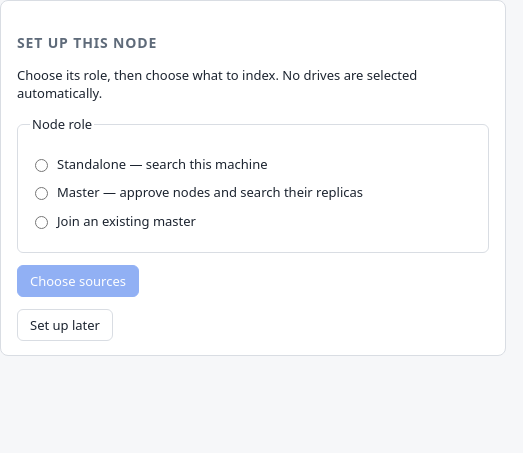
Test: role error is visible and does not silently advance
Click the radio button labelled "Master — approve nodes and search their replicas".
click(42, 194)  # box [35,187,48,200]
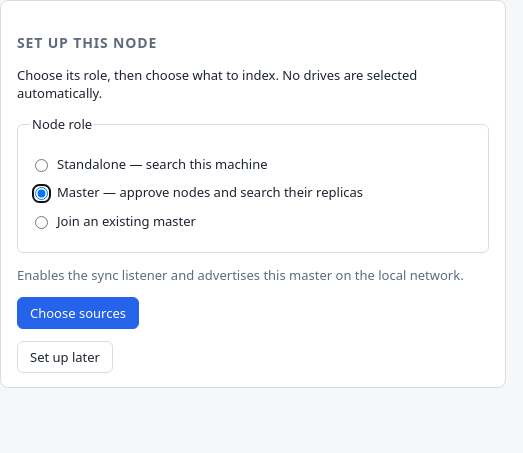
Click the button "Choose sources".
click(78, 313)  # box [17,297,139,329]
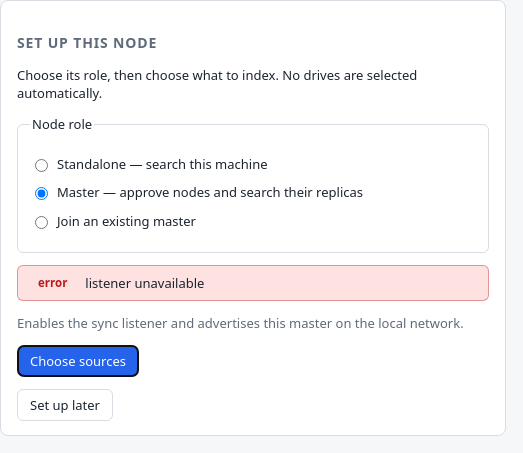
Now the text "listener unavailable" is shown, box [85,274,204,292]
